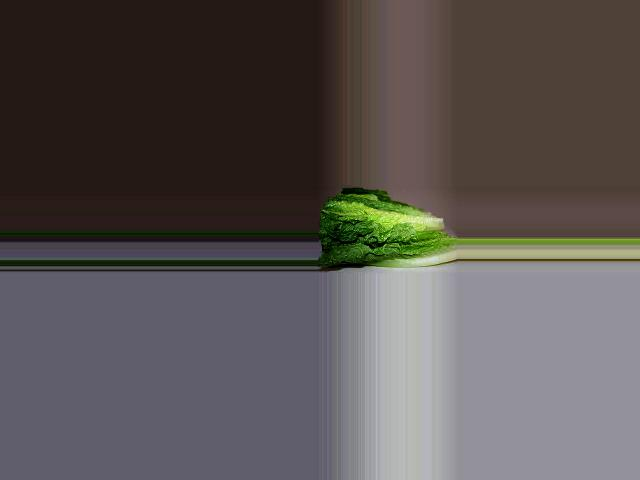lettuce: (317, 197, 450, 271)
